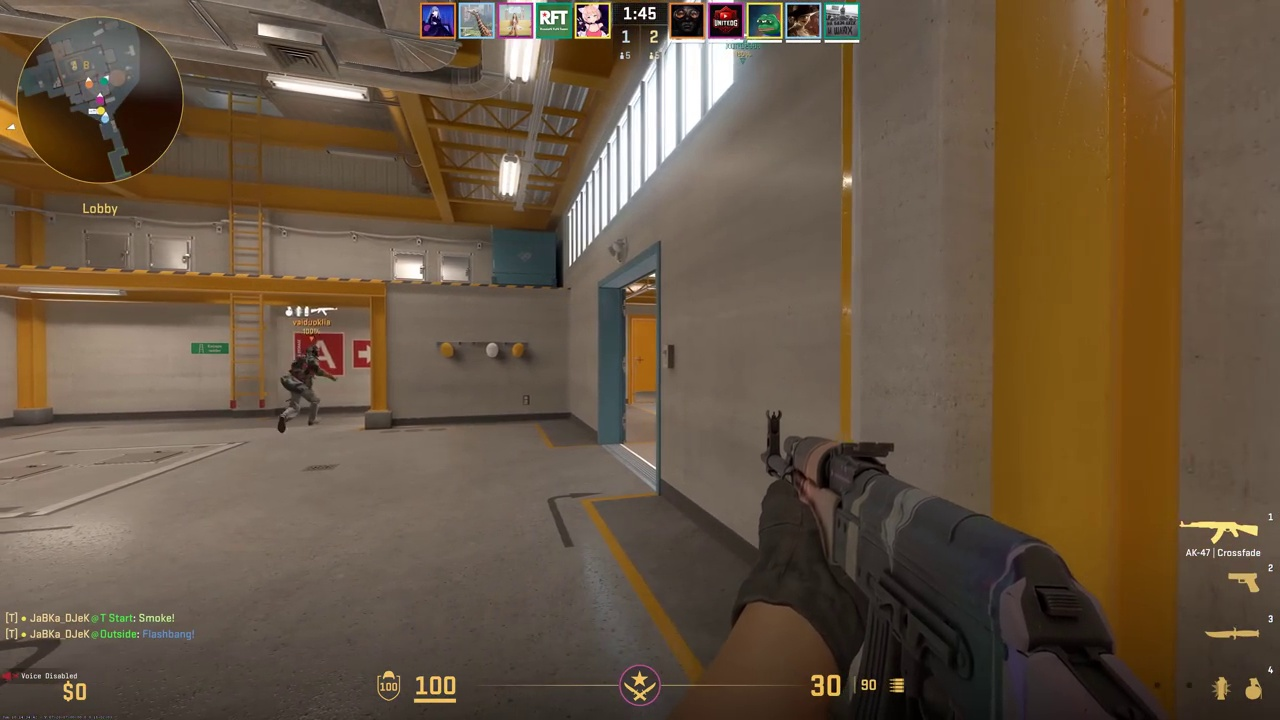Terrorist: (279, 345, 323, 432)
